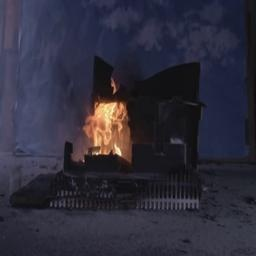fire: (81, 84, 136, 159)
